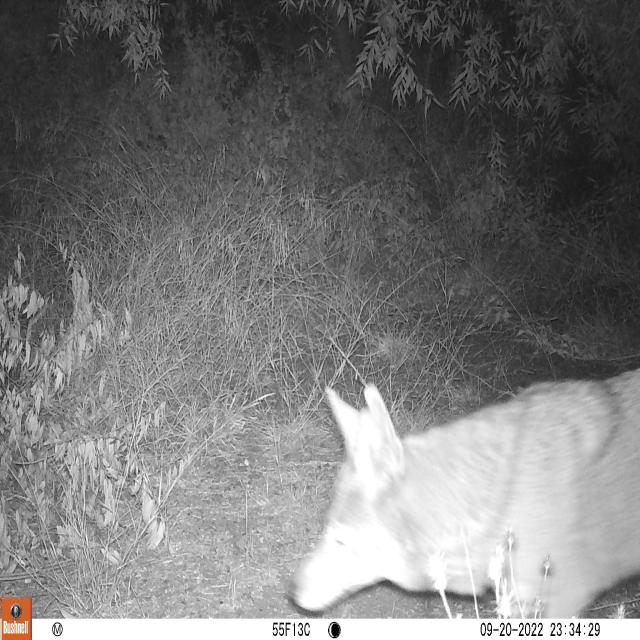Coyote: (294, 363, 640, 618)
